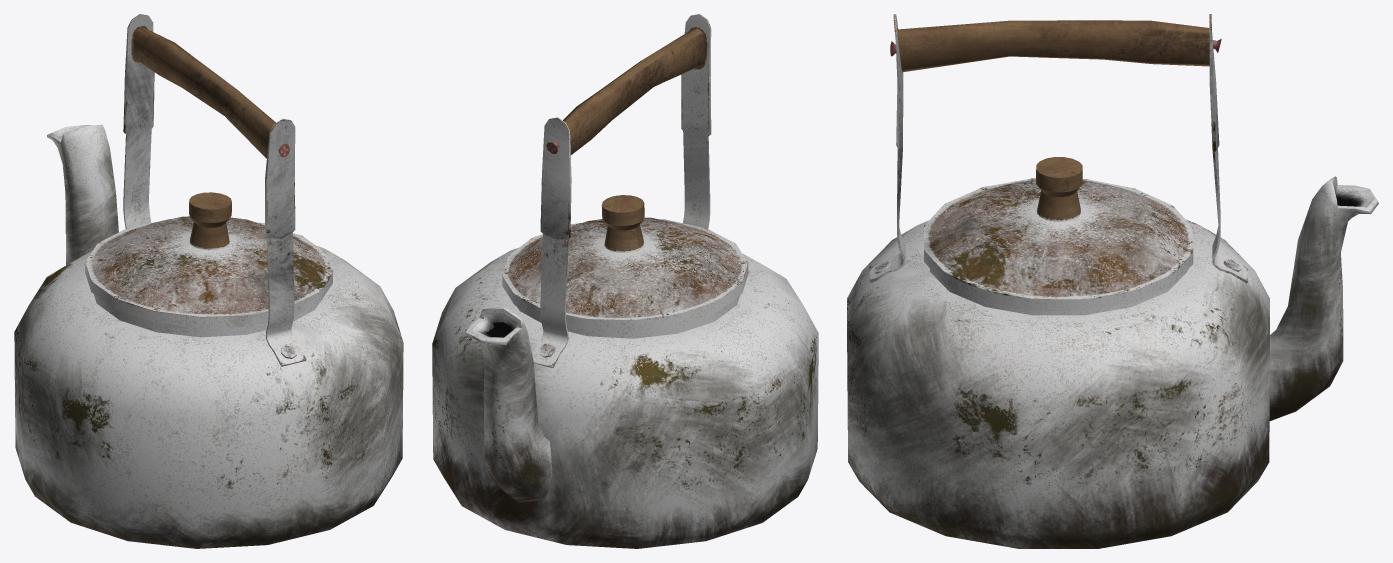
The model's file is obj_soviet_teapot_af249e.glb.
The picture shows the model from 3 angles, left to right: view 1: azimuth 30°, elevation 25°; view 2: azimuth 150°, elevation 25°; view 3: azimuth 270°, elevation 25°; orthographic projection. The views are drawn at different scales.
Parts seen in each view (by area): view 1: obj_soviet_teapot_af249e; view 2: obj_soviet_teapot_af249e; view 3: obj_soviet_teapot_af249e.
Boxes of the visible parts, x1=… form: obj_soviet_teapot_af249e: x1=14, y1=14, x2=403, y2=548; obj_soviet_teapot_af249e: x1=432, y1=14, x2=818, y2=548; obj_soviet_teapot_af249e: x1=847, y1=14, x2=1378, y2=548.
Bounding box in the file's own units: 0.2017 × 0.25 × 0.2536.
Materials: 1 (1 with a texture image).
